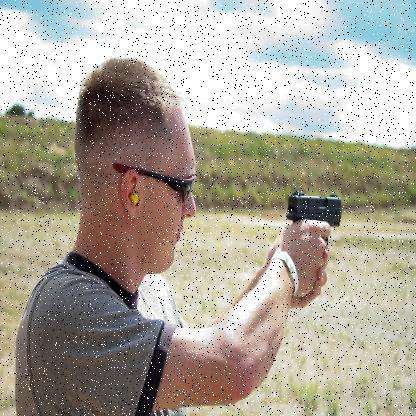pistol: (287, 183, 341, 262)
